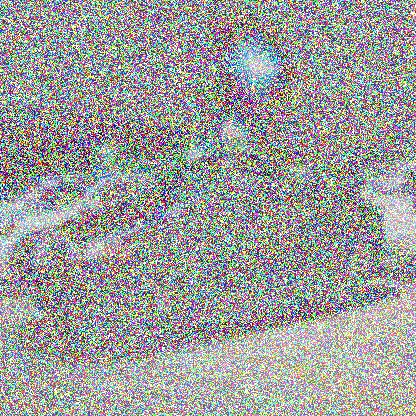Vehicle: (32, 149, 385, 345)
